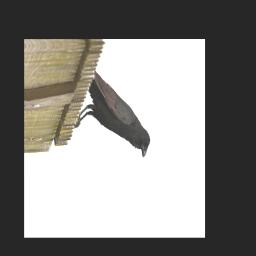Crow: (69, 68, 152, 160)
